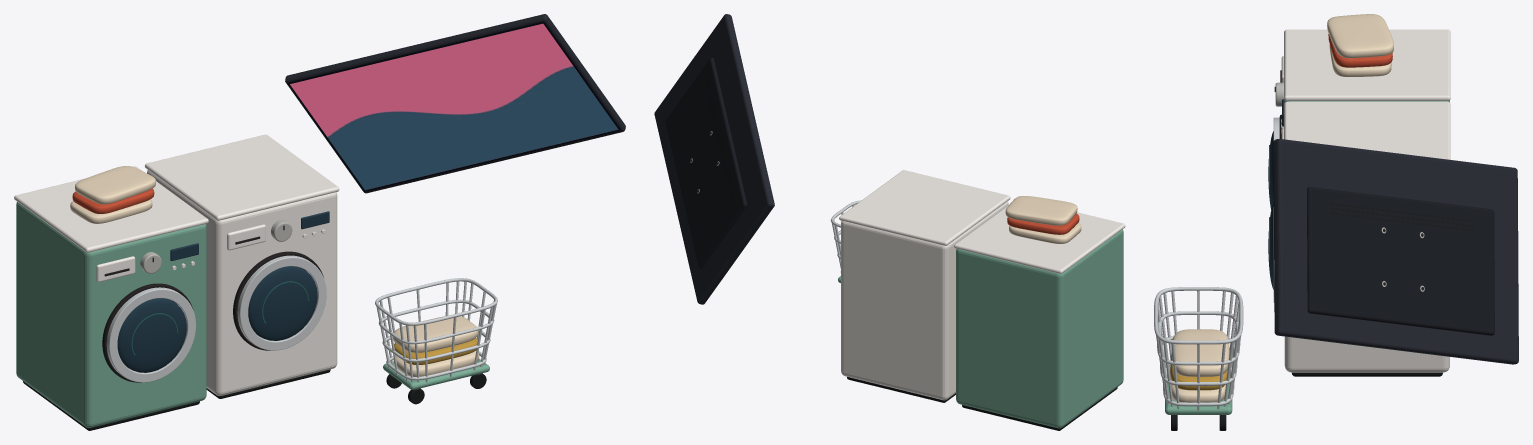
File: launderette.glb
The picture shows the model from 3 angles, left to right: view 1: azimuth 30°, elevation 25°; view 2: azimuth 150°, elevation 25°; view 3: azimuth 270°, elevation 25°; orthographic projection. The views are drawn at different scales.
Parts seen in each view (by area): view 1: Enamel cabinet, TV / active picture.012, TV / active picture.013, Enamel cabinet.001, Rolled top.001, Rolled top, Smoked door glass, Smoked door glass.001, TV / graphite frame.006, Chrome porthole.001, Chrome porthole, Terry fold.002 (+13 smaller); view 2: Enamel cabinet, Enamel cabinet.001, TV / graphite frame.006, TV / rear enclosure.006, Rolled top.001, Rolled top, Terry fold.002, Terry fold.001, Terry fold, Machine base; view 3: TV / graphite frame.006, TV / rear enclosure.006, Rolled top, Rolled top.001, Enamel cabinet.001, Terry fold.002, Folded laundry.002, Wire rim.003, Wire rim.002, TV / cooling louvres.006, Machine base.001, Basket bottom (+7 smaller).
Boxes of the visible parts, x1,y1,x2,y2 form: Enamel cabinet: (16,202,206,427); TV / active picture.012: (290,54,491,190); TV / active picture.013: (416,23,618,159); Enamel cabinet.001: (147,170,337,395); Rolled top.001: (145,134,339,220); Rolled top: (14,166,208,252); Smoked door glass: (117,298,186,372); Smoked door glass.001: (248,266,317,340); TV / graphite frame.006: (285,14,625,193); Chrome porthole.001: (237,255,326,350); Chrome porthole: (106,287,195,382); Terry fold.002: (75,166,155,204); Enamel cabinet: (956,229,1123,428); Enamel cabinet.001: (841,201,1008,400); TV / graphite frame.006: (654,14,774,304); TV / rear enclosure.006: (665,58,746,269); Rolled top.001: (839,170,1010,245); Rolled top: (954,205,1125,273); Terry fold.002: (1005,196,1077,225); Terry fold.001: (1007,213,1079,234); Terry fold: (1009,223,1081,243); Machine base: (962,387,1117,430); TV / graphite frame.006: (1273,139,1518,364); TV / rear enclosure.006: (1307,187,1494,335); Rolled top: (1284,29,1450,100); Rolled top.001: (1284,101,1450,159); Enamel cabinet.001: (1284,336,1449,372); Terry fold.002: (1327,14,1393,58); Folded laundry.002: (1171,329,1229,376); Wire rim.003: (1154,287,1243,344); Wire rim.002: (1157,311,1240,365); TV / cooling louvres.006: (1331,203,1474,231); Machine base.001: (1292,372,1442,376); Basket bottom: (1165,365,1232,414).
Bounding box in the file's own units: 10.4 × 5.78 × 5.41.
Materials: 16 (2 with a texture image).
